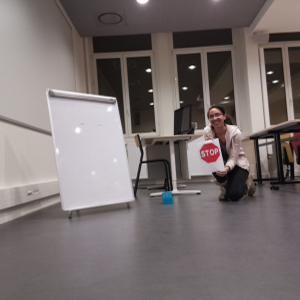big: (46, 88, 137, 214)
small: (161, 191, 175, 204)
